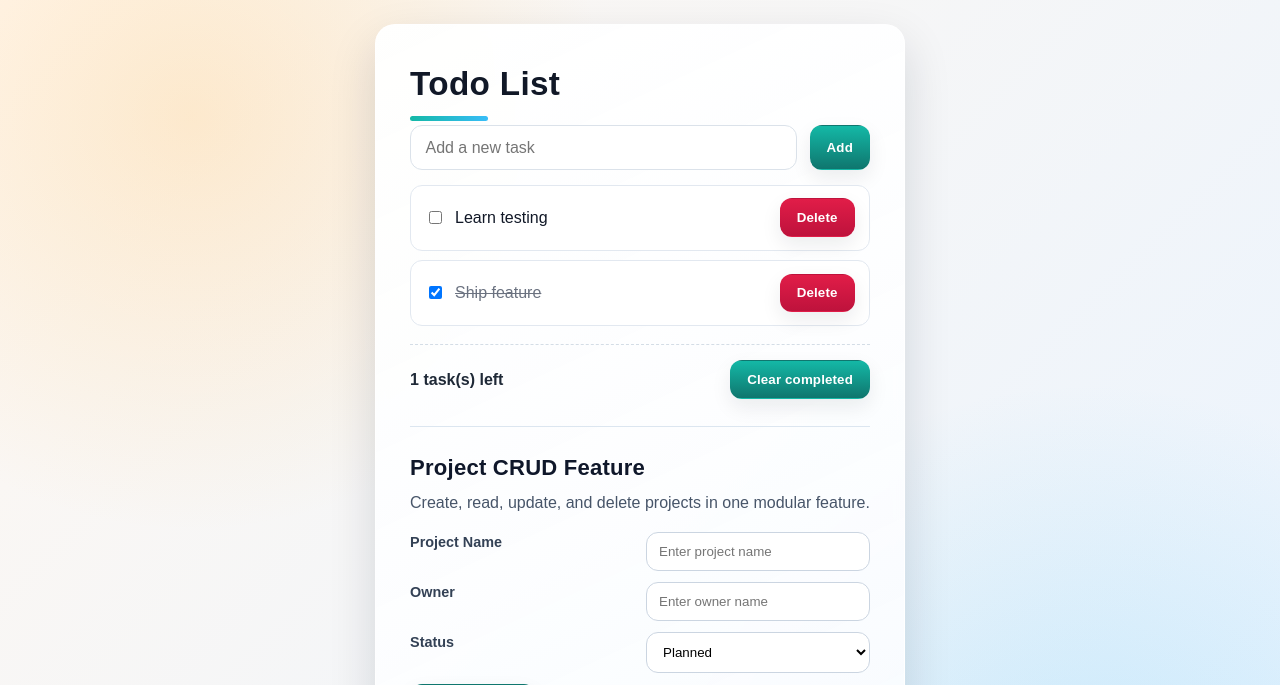
App › shows add error when service fails
expect the text "Learn testing" is shown: met, box [455,206,548,230]
Type "Another task" into the field labelled "Add a new task" at (604, 148), box [410,126,797,170]
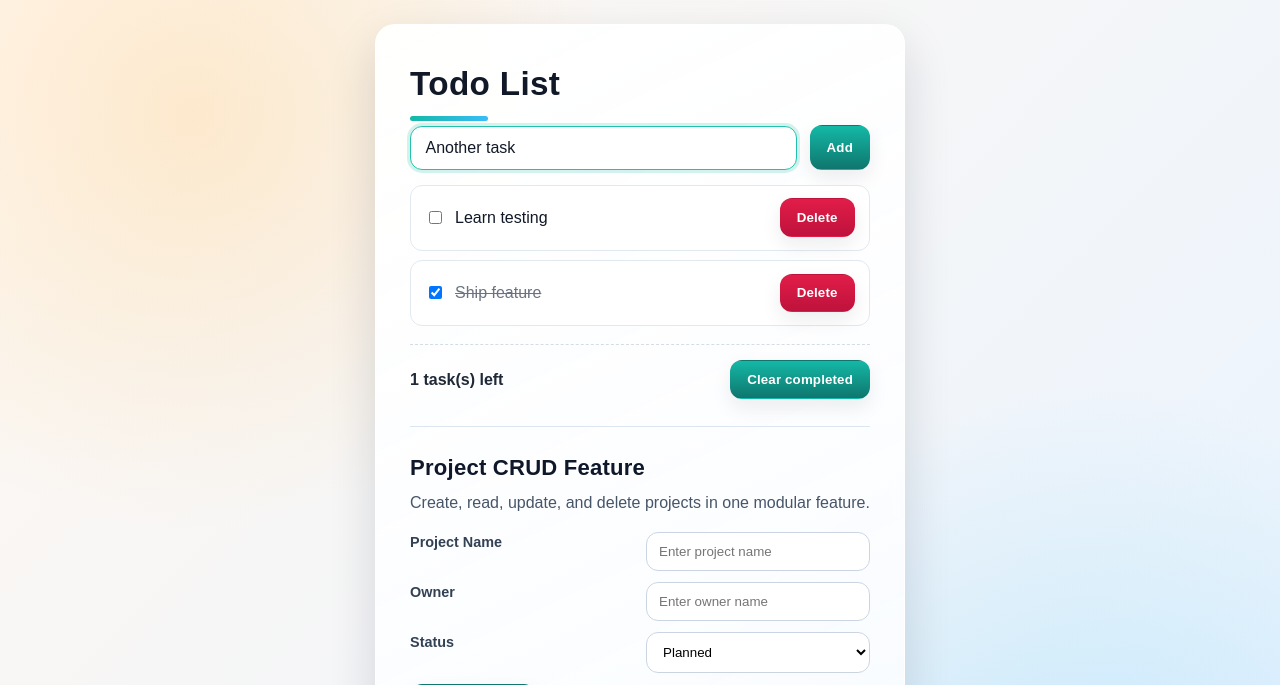
Click the button "Add" at (840, 148), box [810,126,870,170]
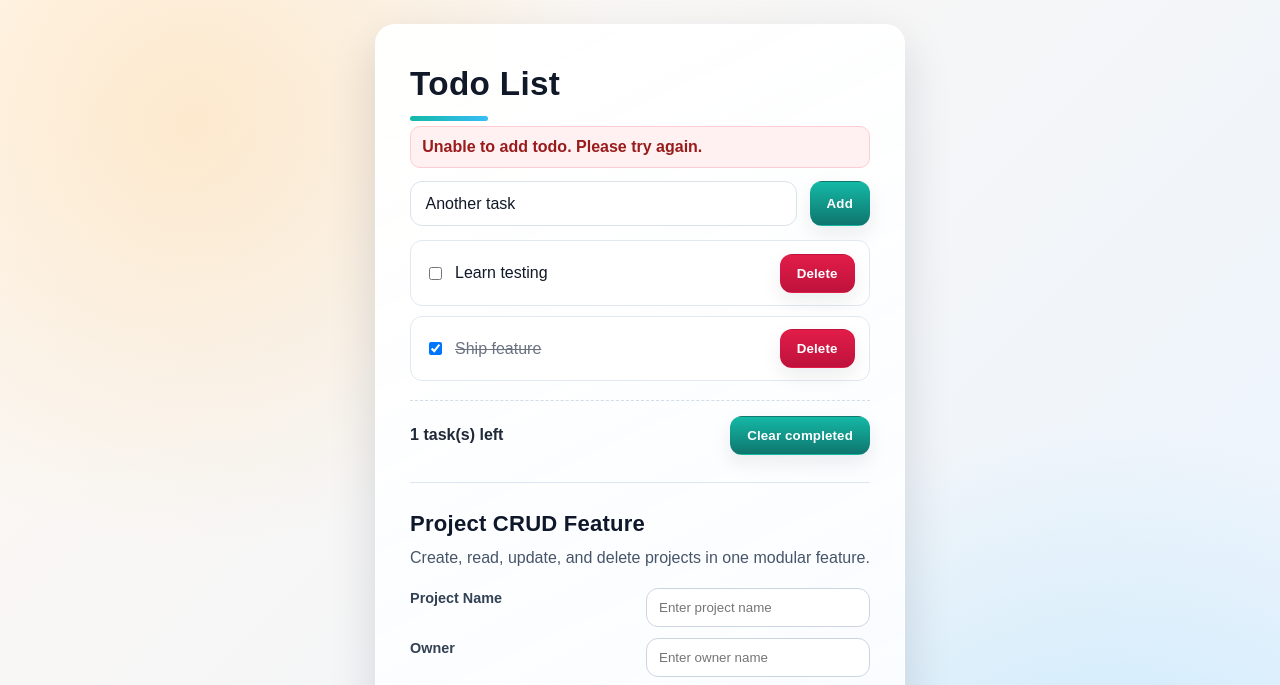
expect the text "Unable to add todo. Please try again." is shown: met, box [410,126,870,168]
